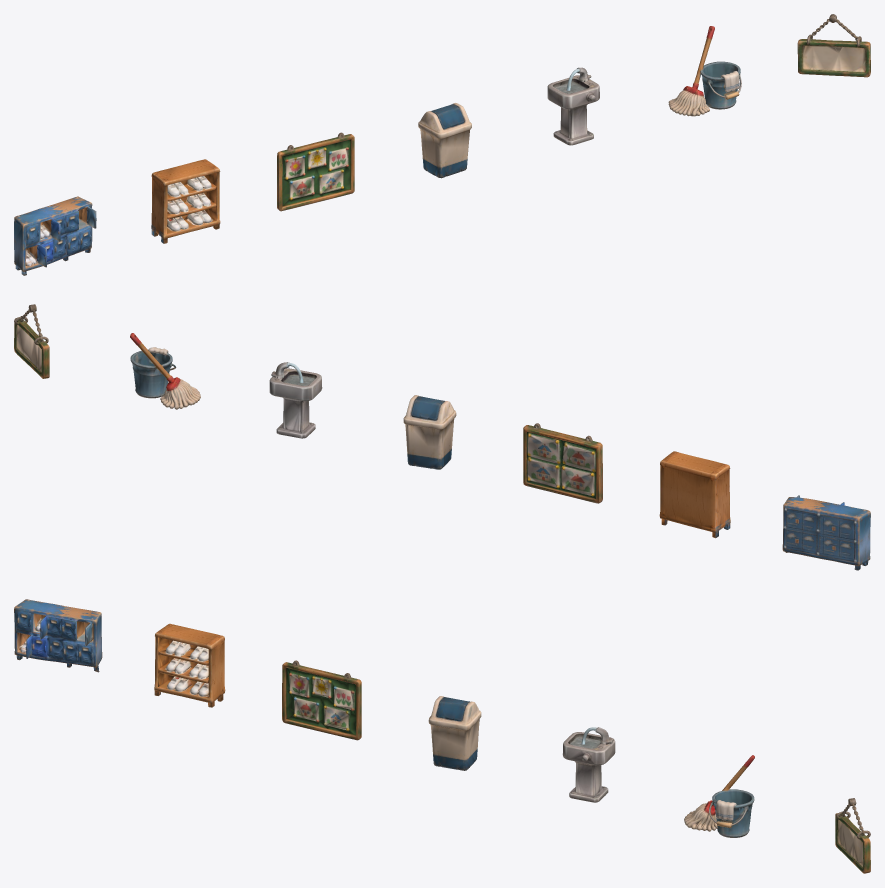
File: set_hall.glb
3 renders of one model, top to bottom at view 1: azimuth 30°, elevation 25°; view 2: azimuth 150°, elevation 25°; view 3: azimuth 330°, elevation 25°, orthographic. The views are drawn at different scales.
Parts seen in each view (by area): view 1: p2, p1, p0, p3, p6, p5, p4; view 2: p0, p2, p1, p3, p5, p4, p6; view 3: p0, p2, p1, p3, p4, p5, p6.
Part boxes in pixels (bbox=[...]): p2: bbox=[277, 132, 354, 211]; p1: bbox=[151, 159, 220, 243]; p0: bbox=[14, 196, 96, 275]; p3: bbox=[418, 103, 471, 178]; p6: bbox=[797, 14, 870, 77]; p5: bbox=[668, 26, 741, 116]; p4: bbox=[547, 67, 599, 145]; p0: bbox=[782, 495, 870, 570]; p2: bbox=[523, 423, 602, 503]; p1: bbox=[659, 451, 730, 538]; p3: bbox=[403, 395, 456, 469]; p5: bbox=[130, 333, 200, 409]; p4: bbox=[269, 362, 322, 438]; p6: bbox=[14, 304, 49, 378]; p0: bbox=[14, 599, 102, 672]; p2: bbox=[282, 660, 361, 740]; p1: bbox=[154, 623, 225, 707]; p3: bbox=[428, 696, 481, 770]; p4: bbox=[562, 727, 615, 802]; p5: bbox=[684, 755, 754, 837]; p6: bbox=[835, 798, 870, 873].
Bounding box in the file's own units: 19.5 × 1.47 × 1.08.
1 material, 1 textured.
